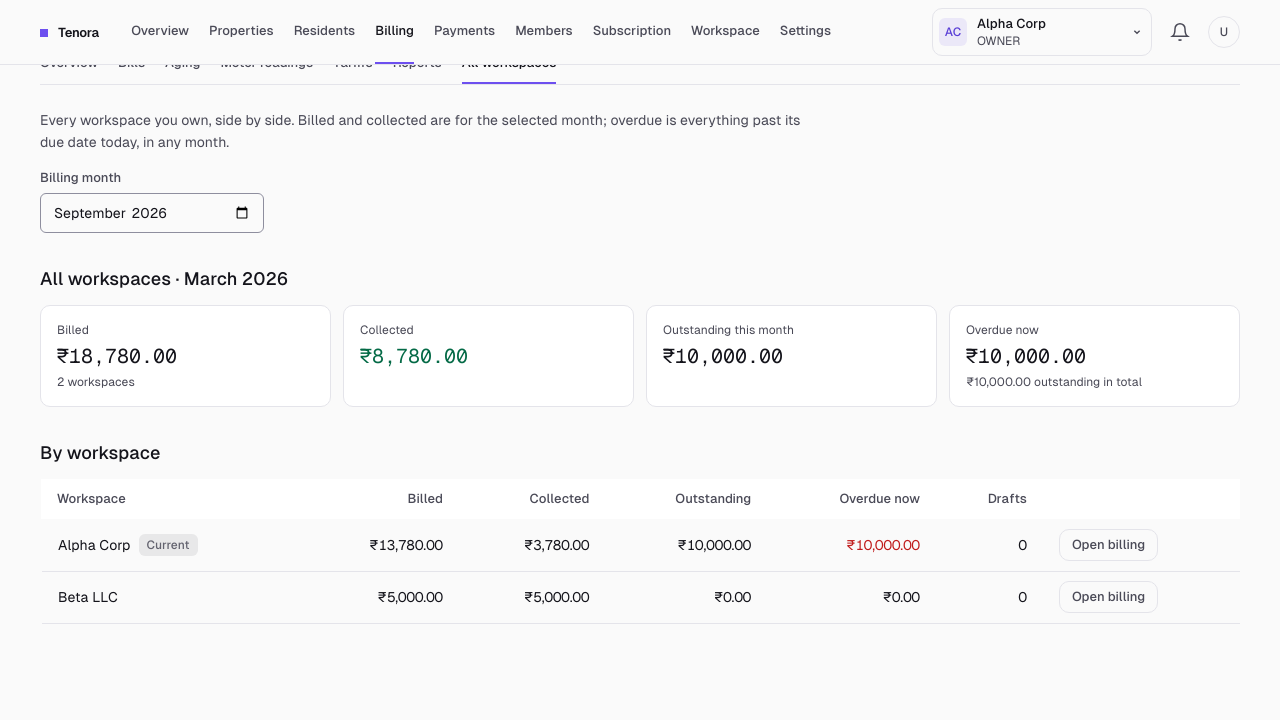
Test case: owner billing portfolio › opening another workspace switches to it and lands on its billing
(page scrolled)
Click the button "Open billing" in the row of "Beta LLC" at (1109, 597), box [1059,581,1158,613]
(page scrolled)
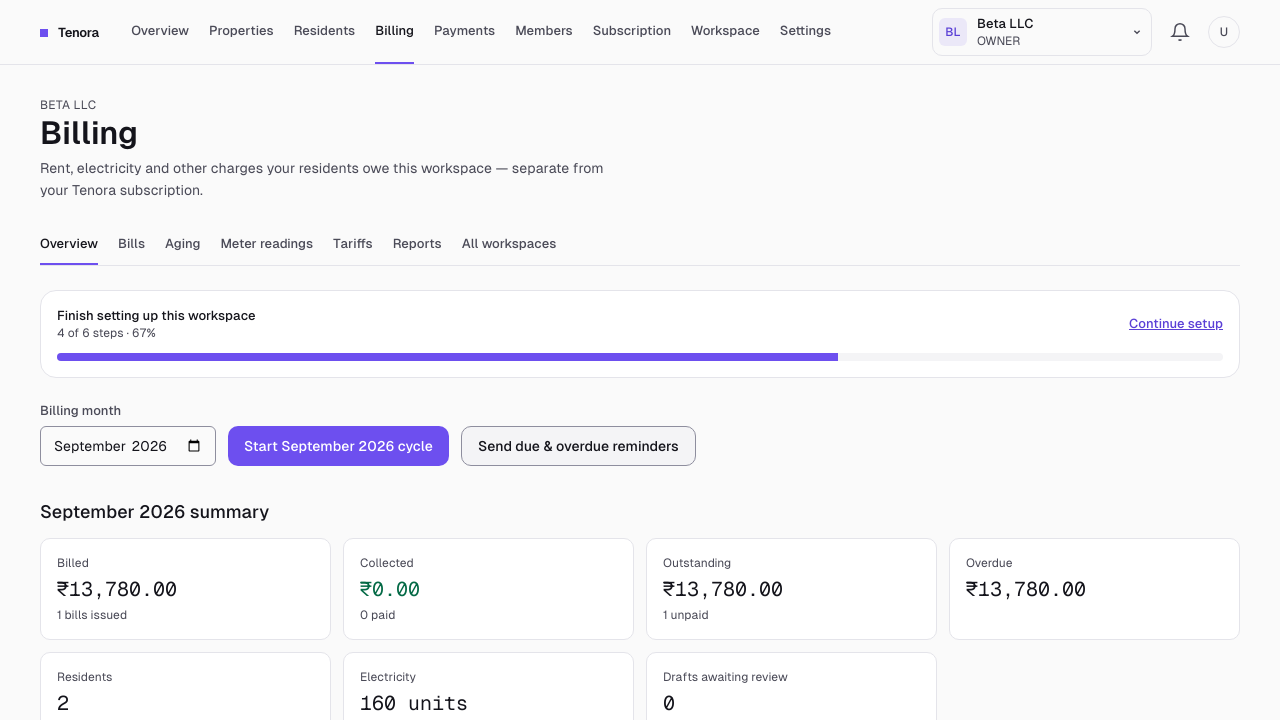
Check: the button "BL Beta LLC OWNER" is shown, box [932,8,1152,56]
